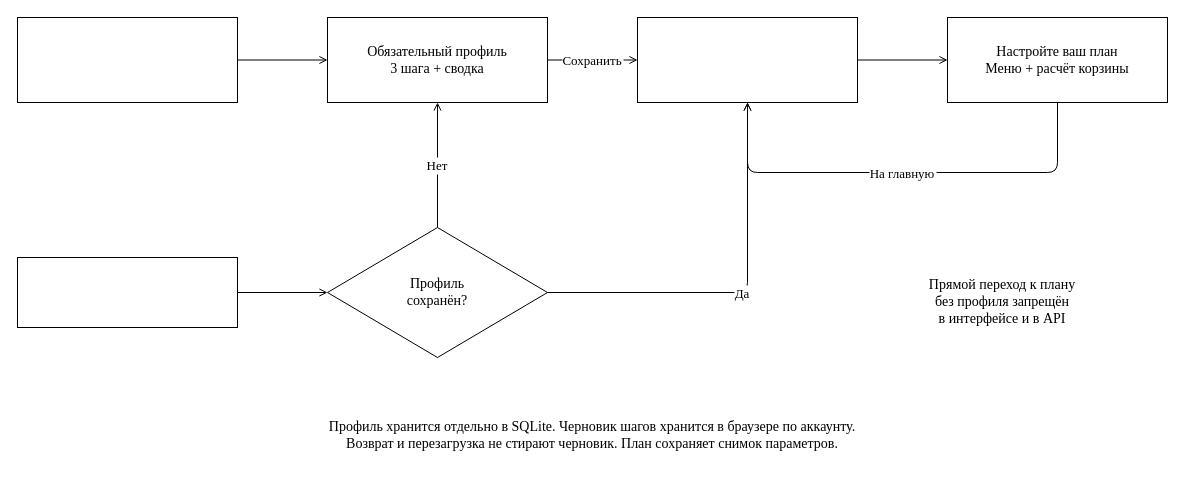
Image size: 1185x490. Some labels were removed from this diagram. Each missing label, with the centre of its shape:
Дашборд Приветствие и профиль: the point at 747,59
Повторный вход: the point at 127,292
Регистрация Имя, email, пароль: the point at 127,59
